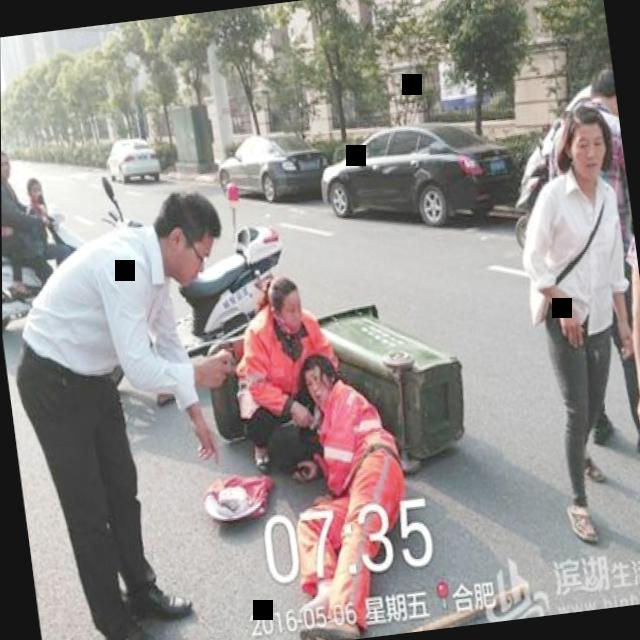Fall-Detected: (254, 341, 423, 640)
